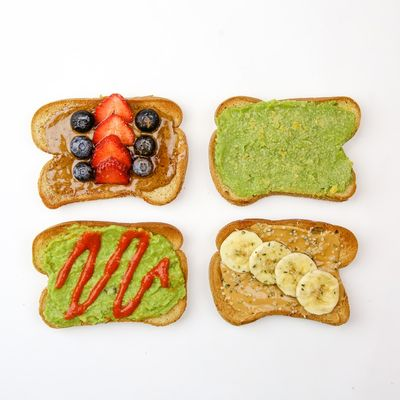soup: (208, 218, 358, 328)
